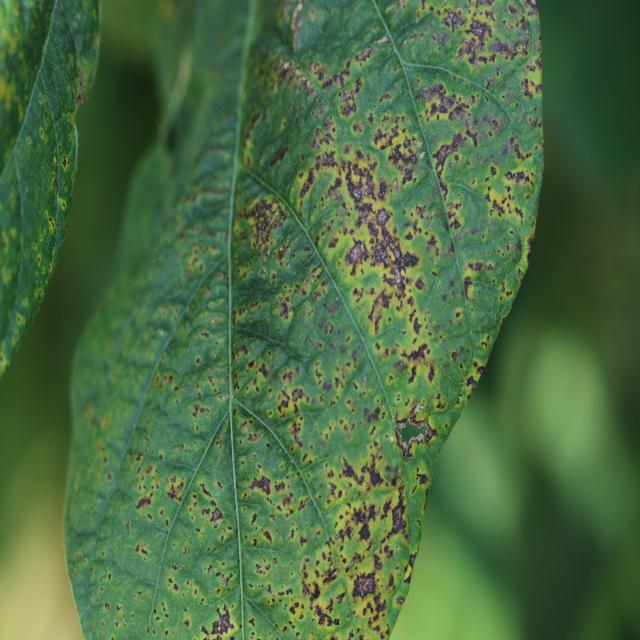Bacterial_Blight: (150, 541, 227, 635), (246, 538, 302, 616), (343, 132, 387, 221), (286, 289, 337, 360), (184, 476, 232, 548), (245, 197, 288, 249), (369, 276, 411, 327), (175, 237, 220, 284), (132, 462, 164, 518), (436, 126, 475, 167), (275, 383, 313, 421), (0, 63, 22, 122), (487, 185, 520, 222), (490, 32, 529, 60), (462, 16, 493, 47), (347, 501, 377, 532), (415, 82, 447, 108), (352, 570, 377, 600), (403, 343, 430, 368), (289, 1, 305, 43), (503, 168, 532, 189), (510, 138, 534, 163), (249, 473, 272, 497), (298, 169, 316, 199), (336, 87, 355, 114), (390, 503, 407, 533), (74, 70, 88, 99), (520, 77, 537, 99), (367, 464, 384, 486), (191, 402, 210, 421), (364, 404, 381, 425), (423, 422, 438, 445), (403, 250, 420, 268), (257, 362, 269, 378), (393, 268, 403, 287), (403, 564, 413, 583), (135, 543, 149, 556), (415, 275, 426, 291), (465, 375, 477, 389), (48, 216, 55, 232), (50, 173, 56, 191), (61, 155, 68, 170), (16, 313, 24, 325), (518, 268, 525, 281), (34, 288, 42, 299), (60, 199, 66, 210), (416, 140, 423, 149), (39, 128, 44, 139), (104, 602, 110, 611), (53, 152, 57, 164), (44, 209, 49, 218), (219, 395, 225, 402), (37, 255, 41, 265), (38, 95, 42, 104), (48, 263, 52, 272)
Soybean: (64, 0, 543, 640)
